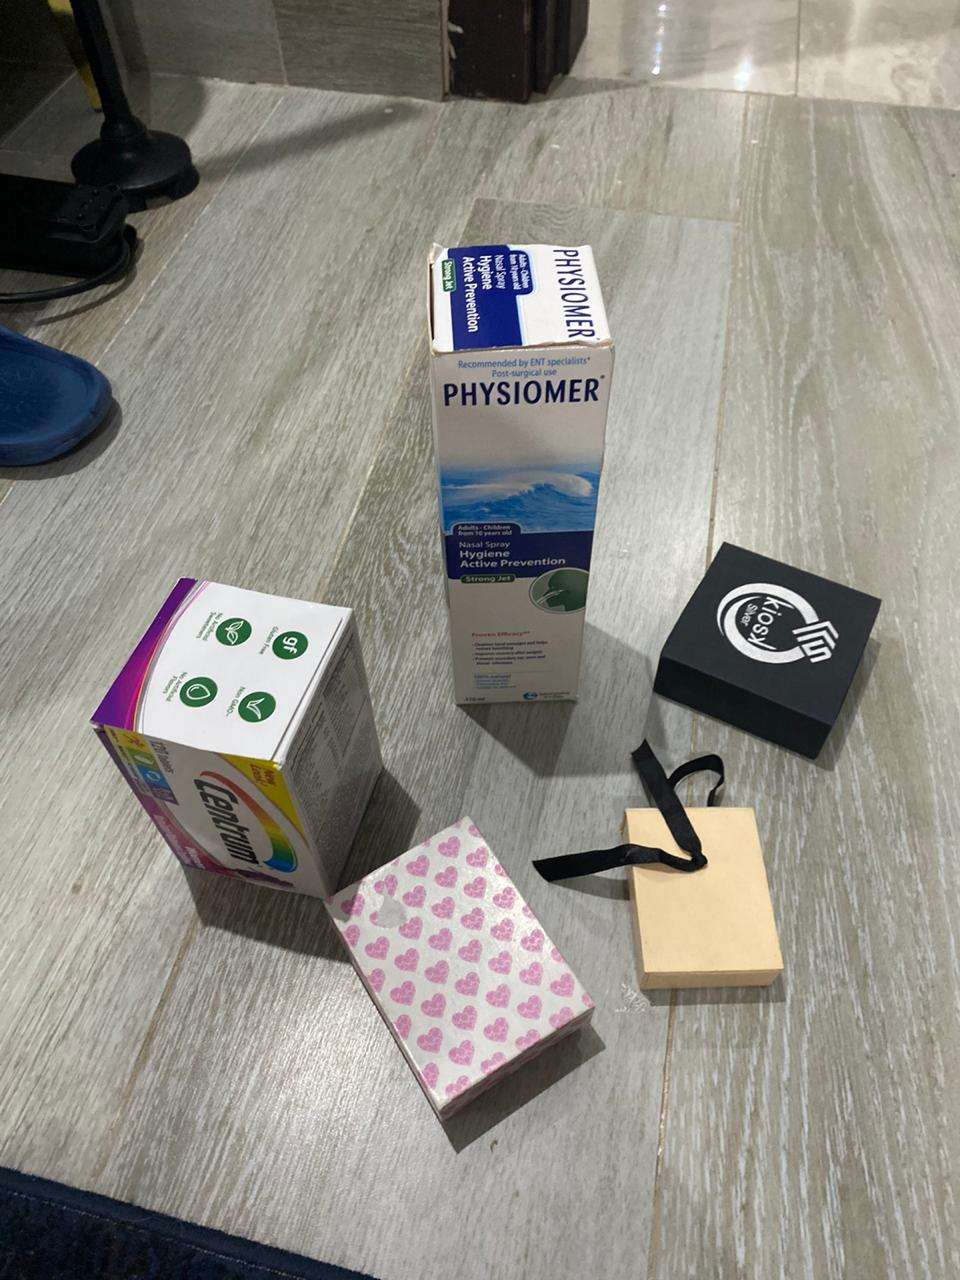Centrum: (90, 574, 388, 905)
Physiomer: (419, 238, 627, 708)
Pink Box: (286, 815, 597, 1126)
Red Box: (653, 538, 888, 765)
Yellow Box: (620, 800, 799, 993)
